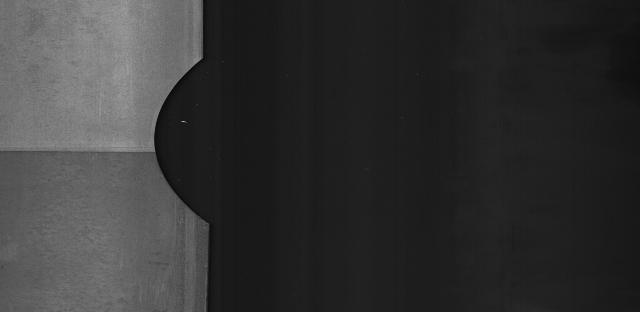welding_line: (3, 142, 173, 172)
